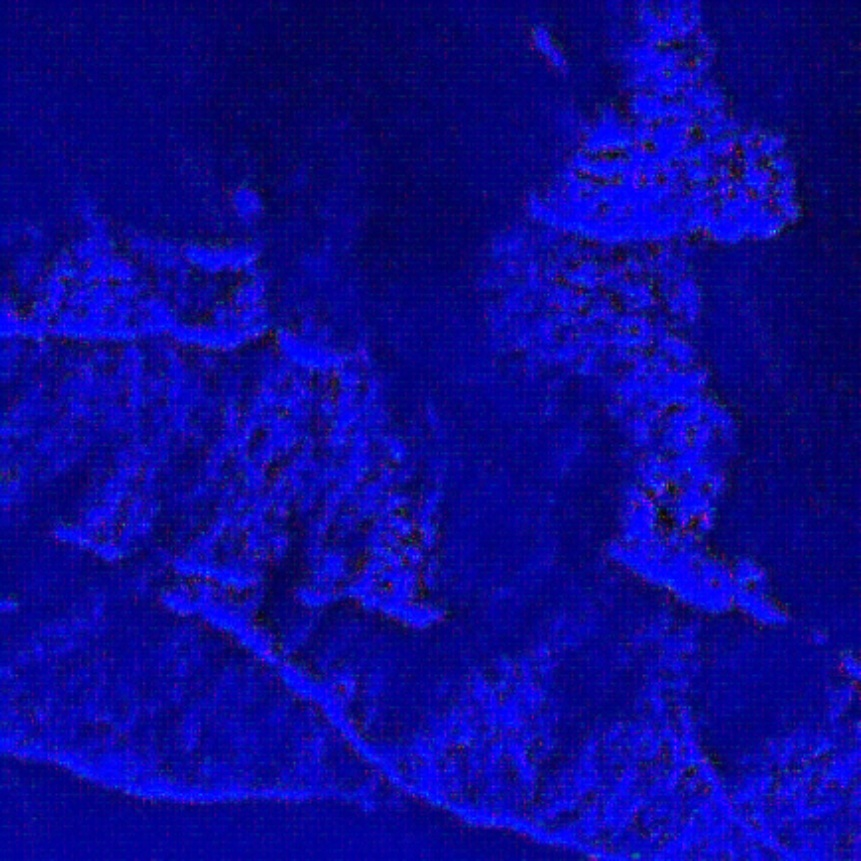rip_current: (185, 108, 684, 716)
